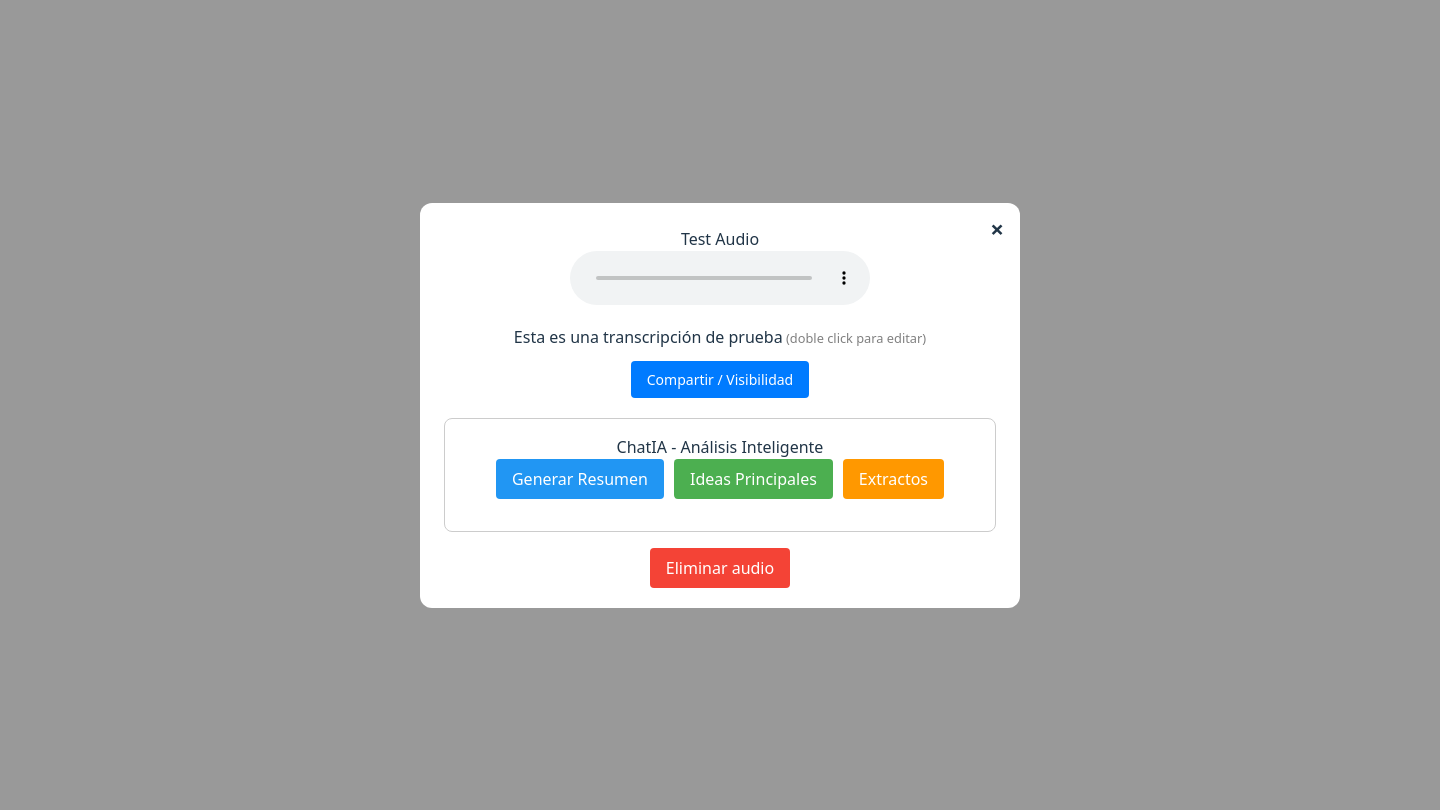
Scenario: SeleccionHistorial - Smoke Tests › debe permitir editar la transcripción al hacer clic
Note: Hacer clic en el texto para editar
What coordinates should you click on to do the following:
click the text "Esta es una transcripción de prueba"
I would click on:
 (648, 336)
Its box is top-left (514, 326), bottom-right (783, 348).
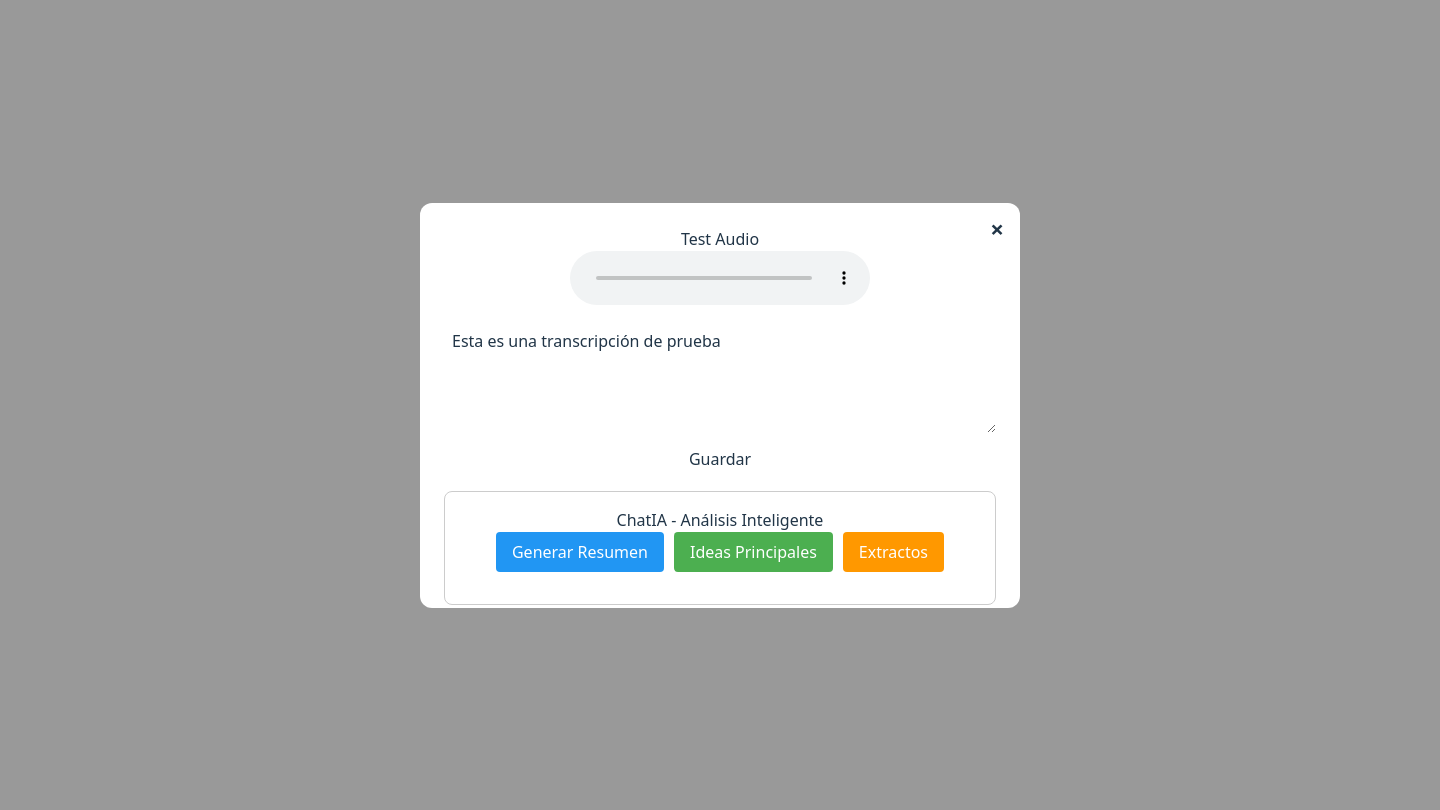
Expected: the text box holds "Esta es una transcripción de prueba", top-left (444, 320), bottom-right (996, 432)
